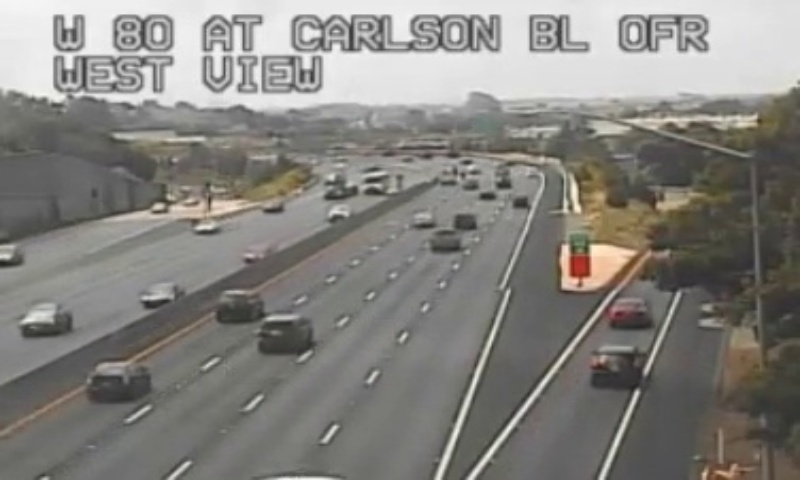car: (85, 362, 148, 400), (257, 313, 312, 350), (591, 344, 640, 384), (215, 290, 264, 321), (608, 297, 648, 326)
